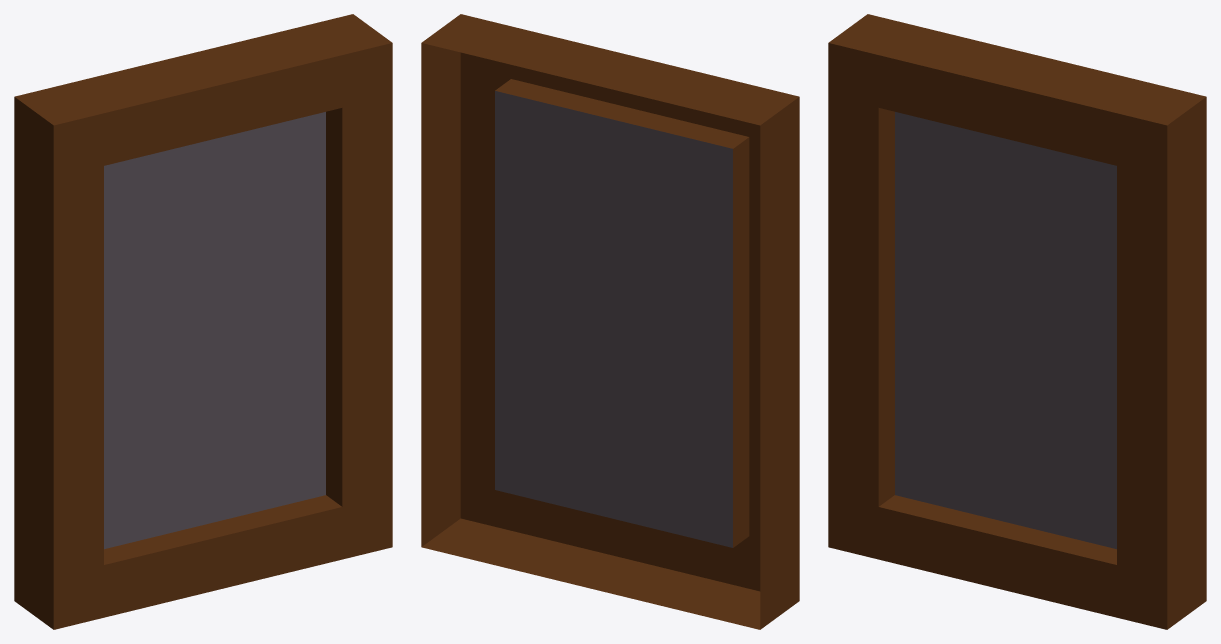
The model's file is Window_2.glb.
3 renders of one model, left to right at view 1: azimuth 30°, elevation 25°; view 2: azimuth 150°, elevation 25°; view 3: azimuth 330°, elevation 25°, orthographic.
Parts seen in each view (by area): view 1: Window_2; view 2: Window_2; view 3: Window_2.
Boxes of the visible parts, x1,y1,x2,y2 form: Window_2: (14, 14, 392, 629); Window_2: (421, 14, 799, 629); Window_2: (828, 14, 1206, 629).
Size of the model in its own units: 0.1786 by 0.2541 by 0.036.
